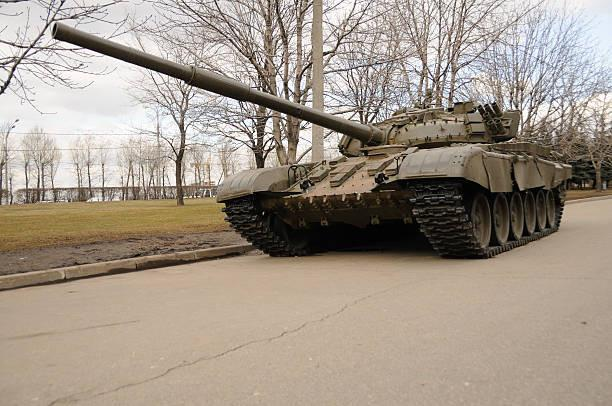tank: (51, 22, 572, 260)
